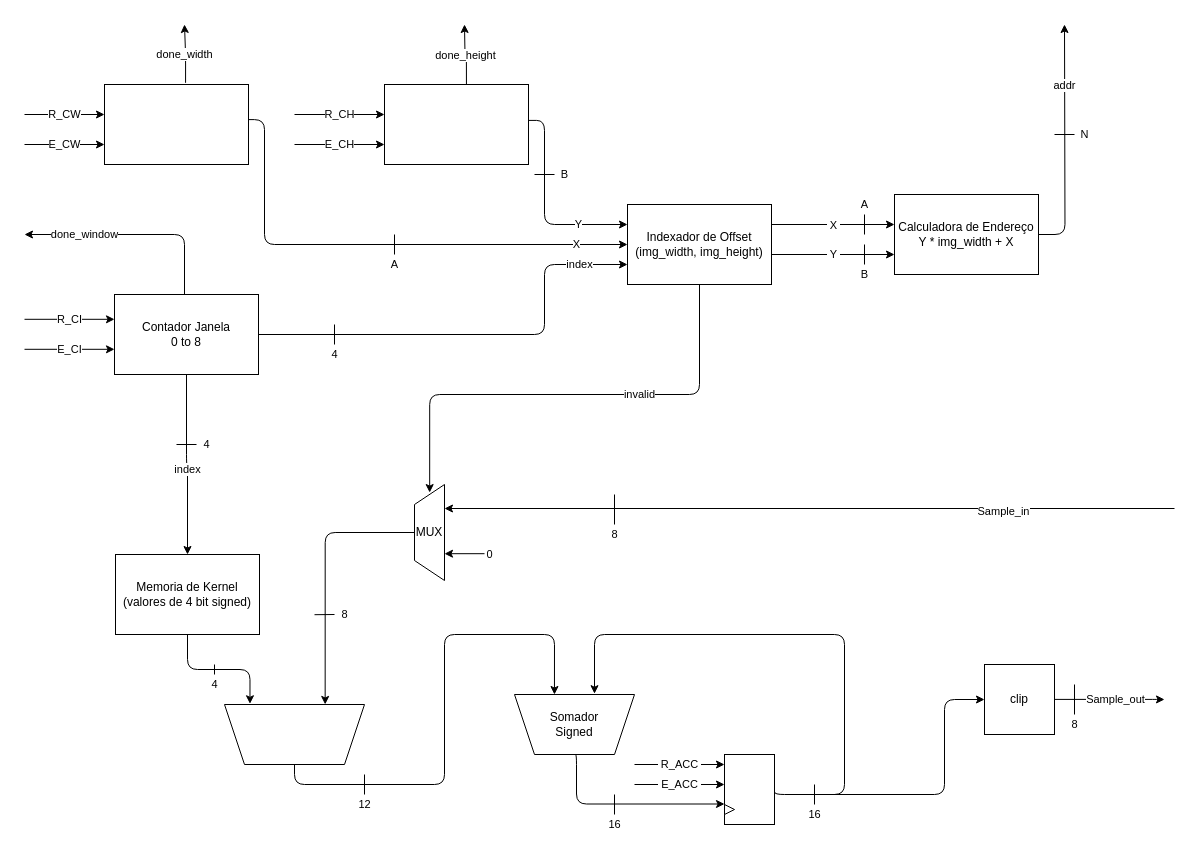
This 1200x848 diagram has some shape labels left out. The centre of each missing label's shape, as x and y in pixels:
"acc" goes at pixel 749 789.
"Contador Coluna 0 to img_width - 1" goes at pixel 176 124.
"Contador Linha 0 to img_height - 1" goes at pixel 456 124.
"Multiplicador signed * unsigned" goes at pixel 294 734.
